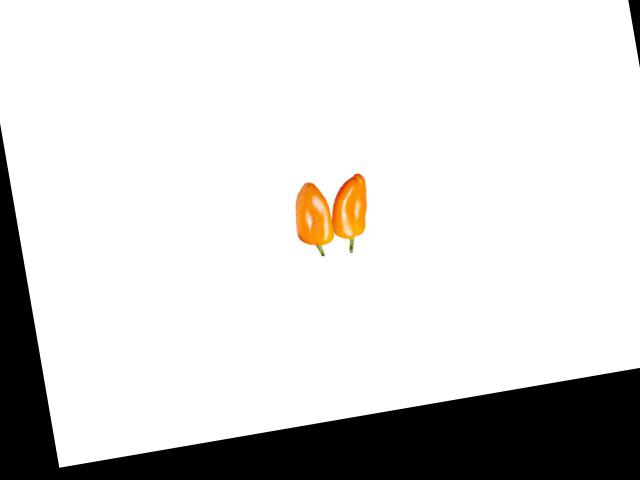bell_pepper: (278, 164, 339, 262)
